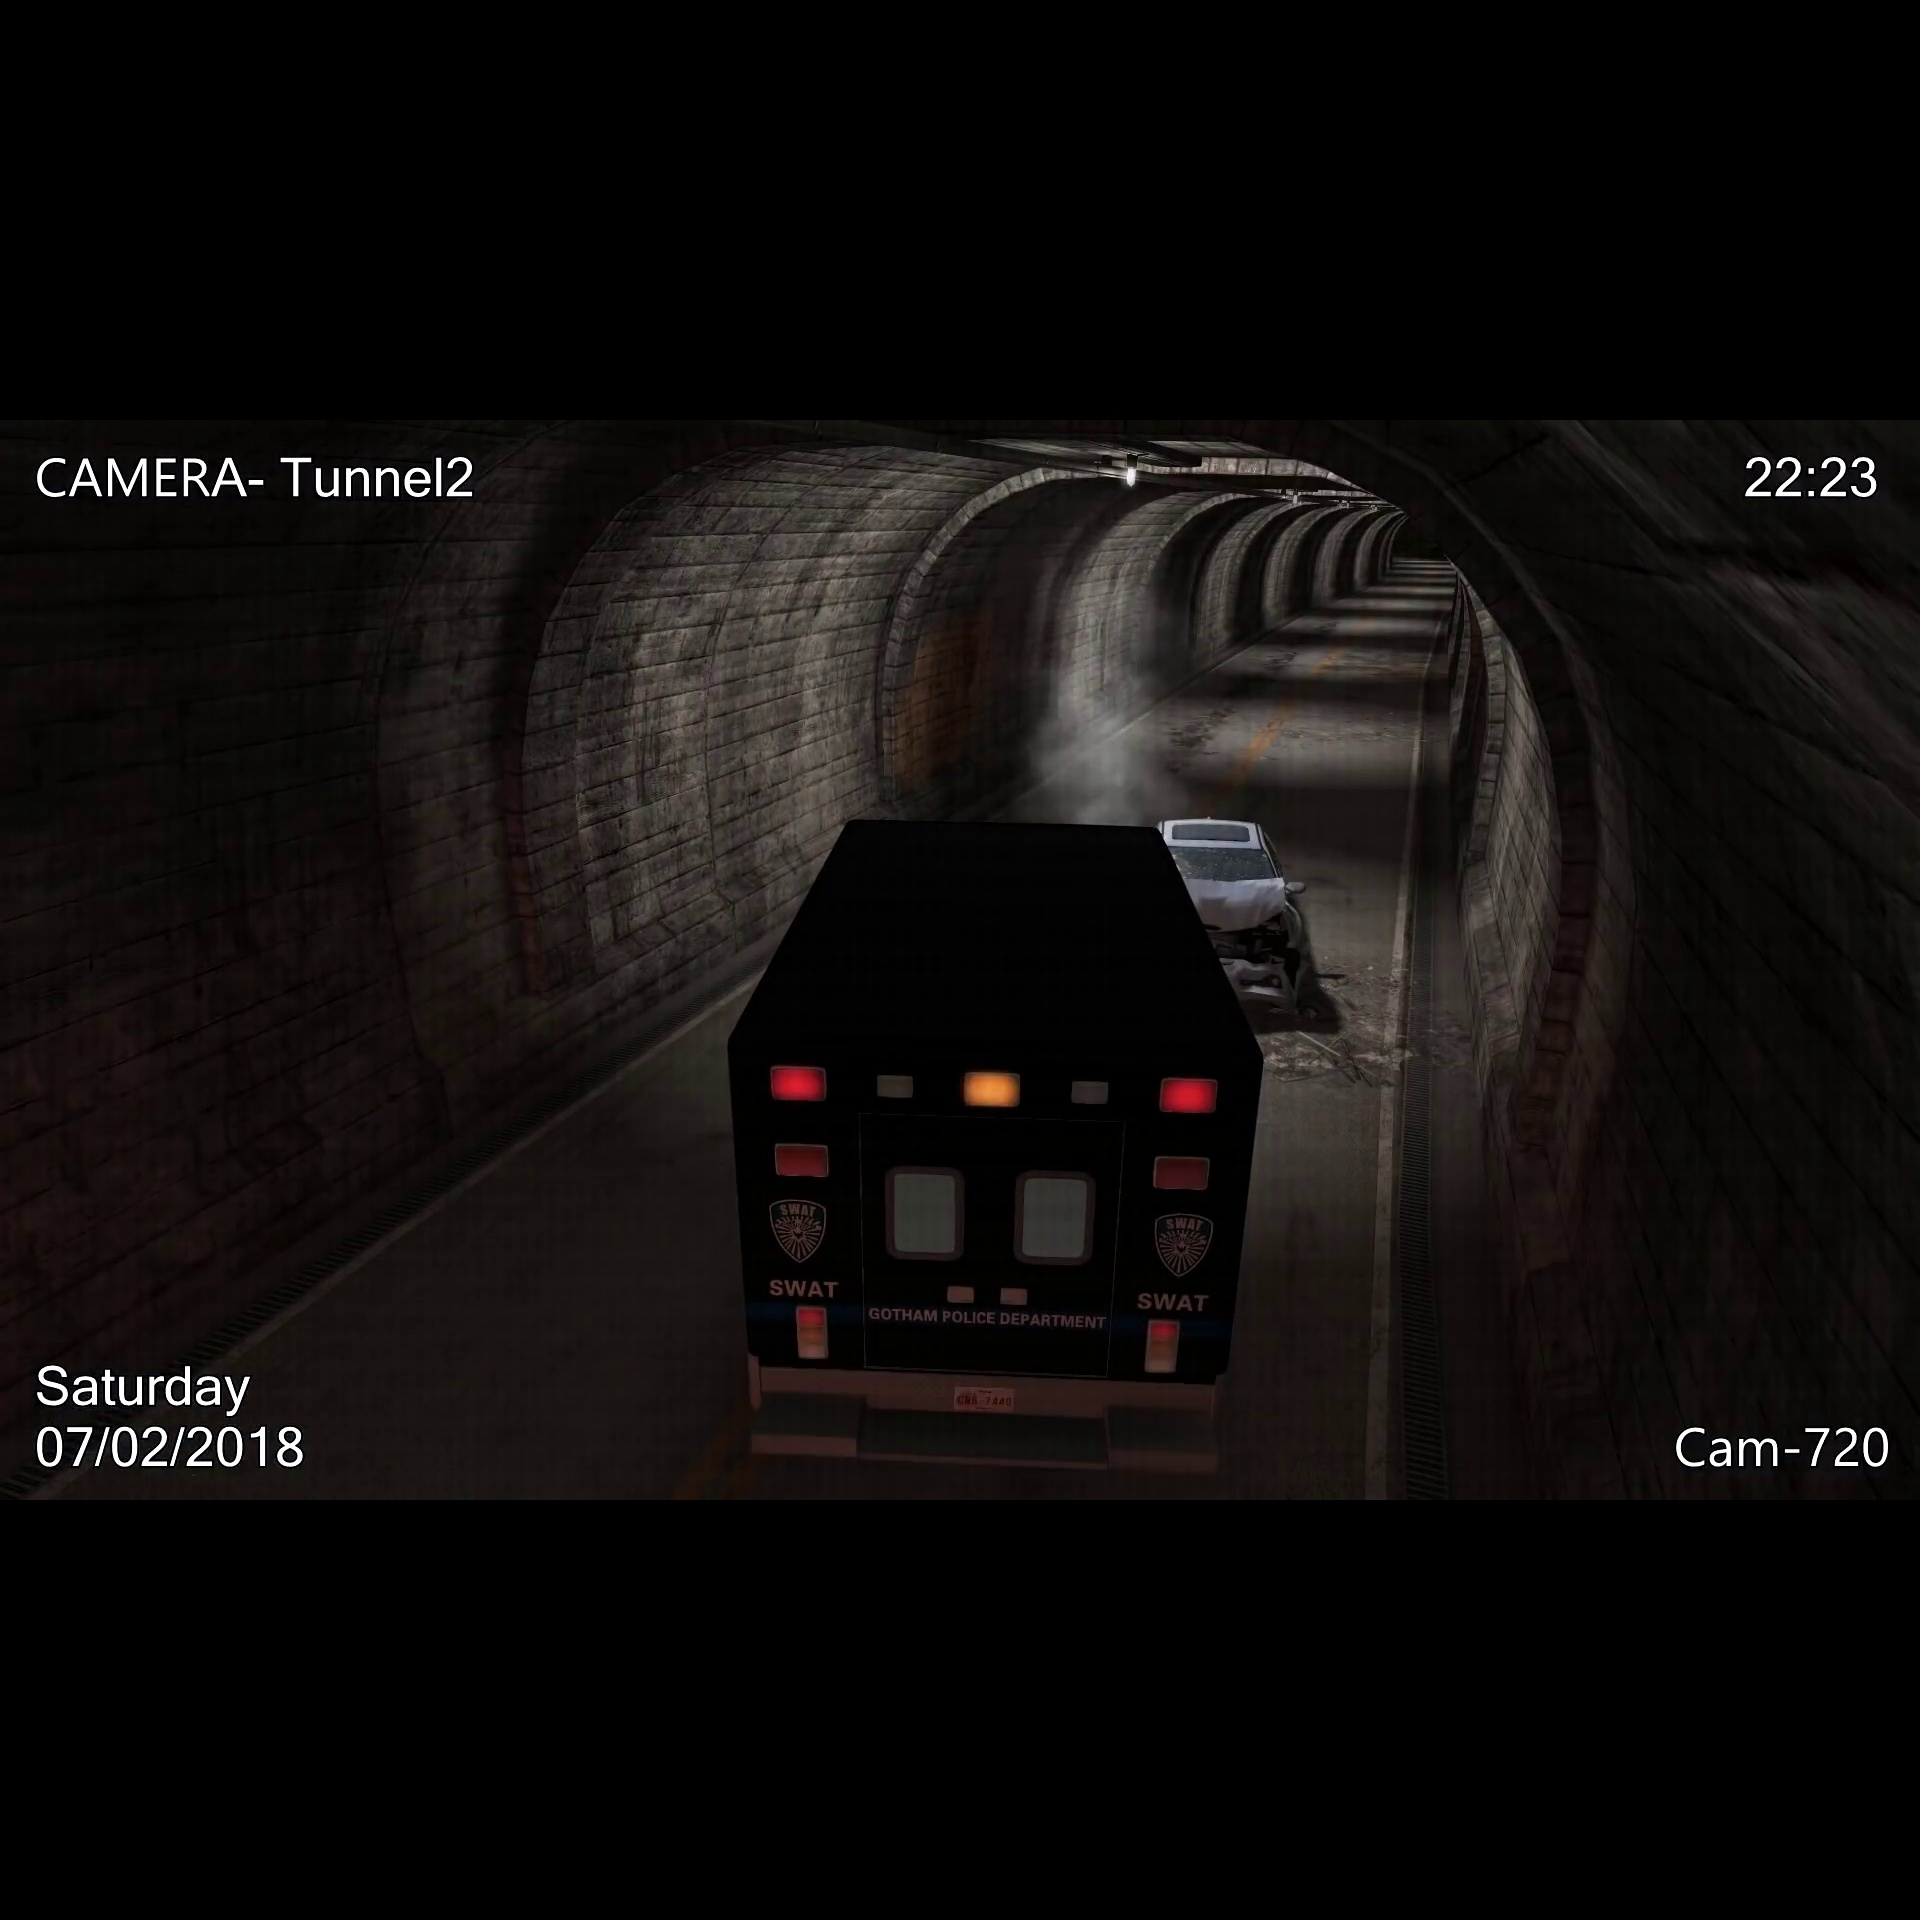vehicle: (712, 804, 1269, 1493), (1152, 805, 1322, 1009)
